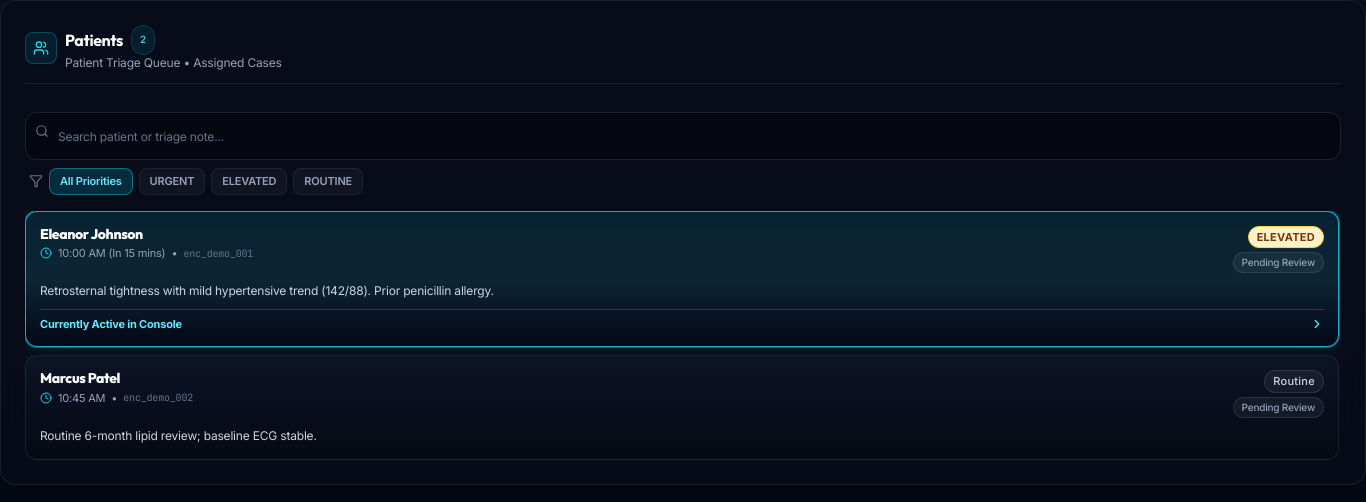
TASK-P1-501: Doctor Console, Briefing UI & Audio Player Suite › 1. DoctorQueueList Component › filters queue items by priority
Step 1. Click the button with test id "filter-priority-ELEVATED" → (249, 181), box 211,168 -> 287,194
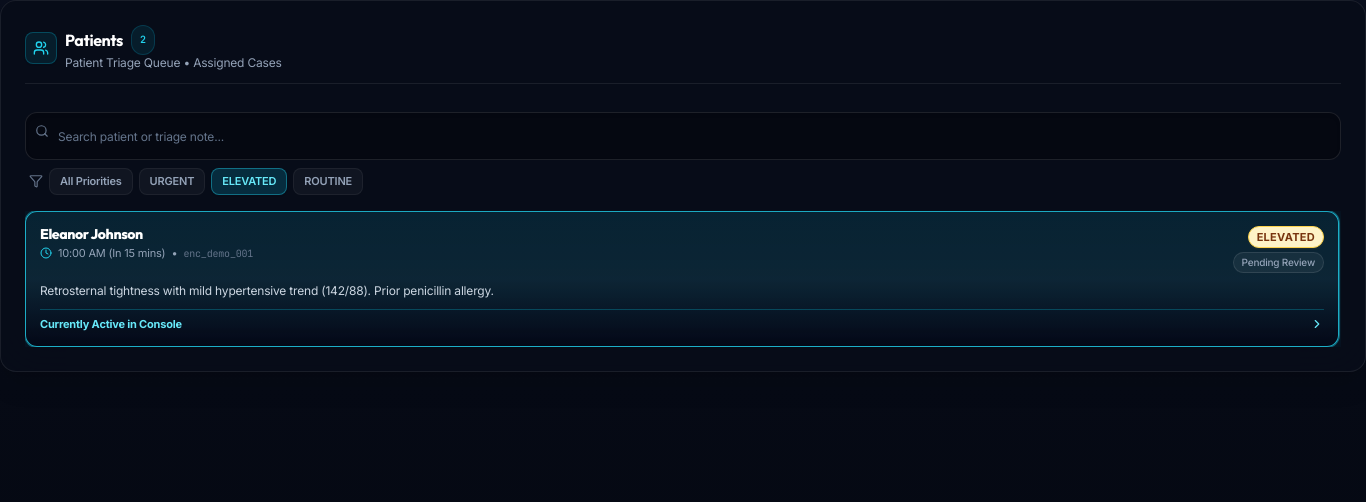
expect the heading "Eleanor Johnson" is shown: met, box 40,224 -> 143,242
expect the heading "Marcus Patel" is gone: met
